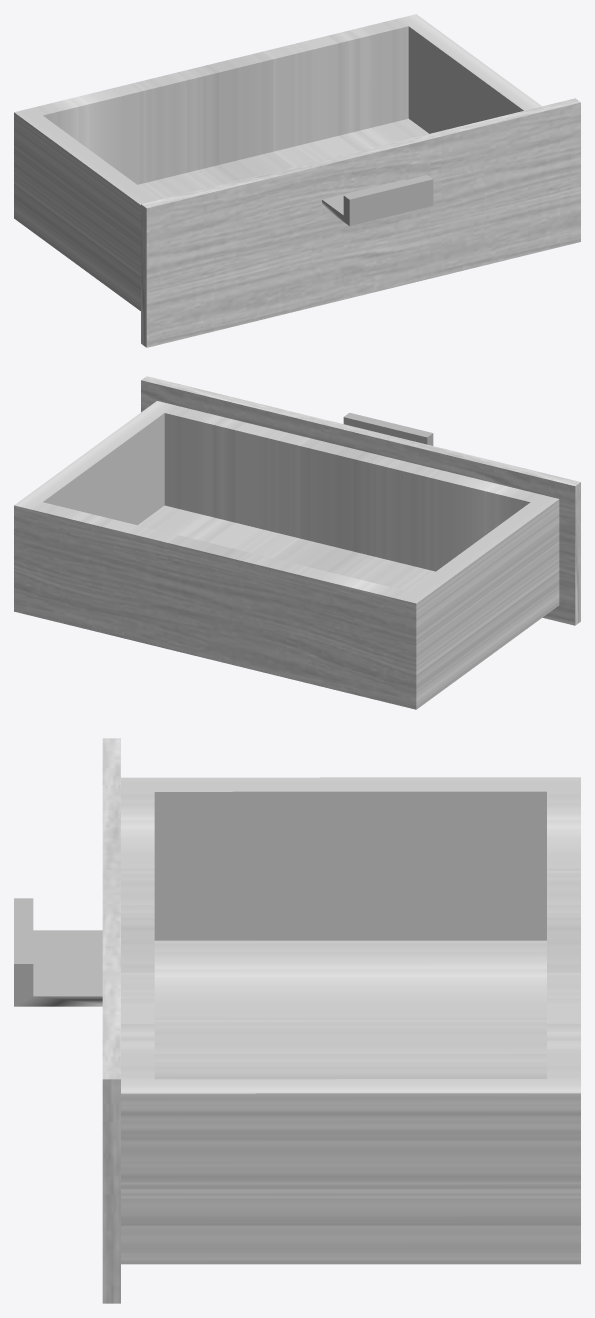
The model's file is Drawer_a6915f53.obj.
3 views of the same model, one above another, from view 1: azimuth 30°, elevation 25°; view 2: azimuth 150°, elevation 25°; view 3: azimuth 270°, elevation 25° (orthographic). The views are drawn at different scales.
Visible parts, largest first — view 1: FP430:Door2_01_f6a39909; view 2: FP430:Door2_01_f6a39909; view 3: FP430:Door2_01_f6a39909.
Part boxes in pixels (x1,y1,x2,y2): FP430:Door2_01_f6a39909: (14,14,580,347); FP430:Door2_01_f6a39909: (14,376,580,709); FP430:Door2_01_f6a39909: (14,738,580,1303).
Bounding box in the file's own units: 0.5512 × 0.1692 × 0.3874.
